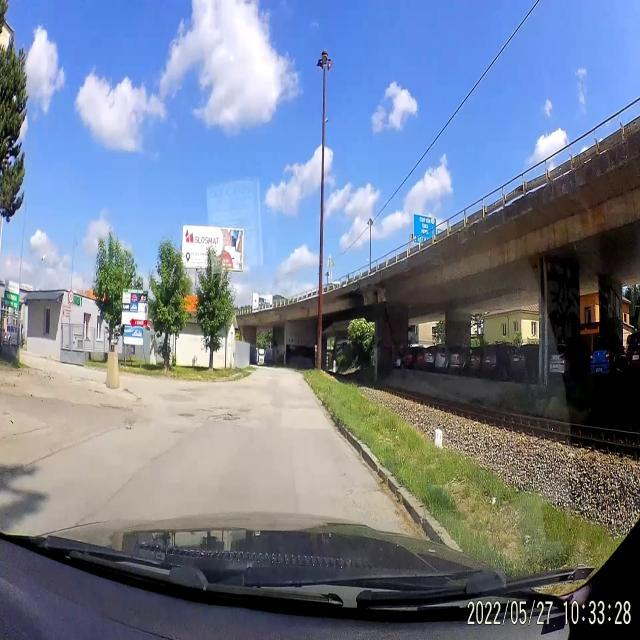Manhole: (179, 408, 194, 422)
Pothole: (208, 410, 241, 424)
